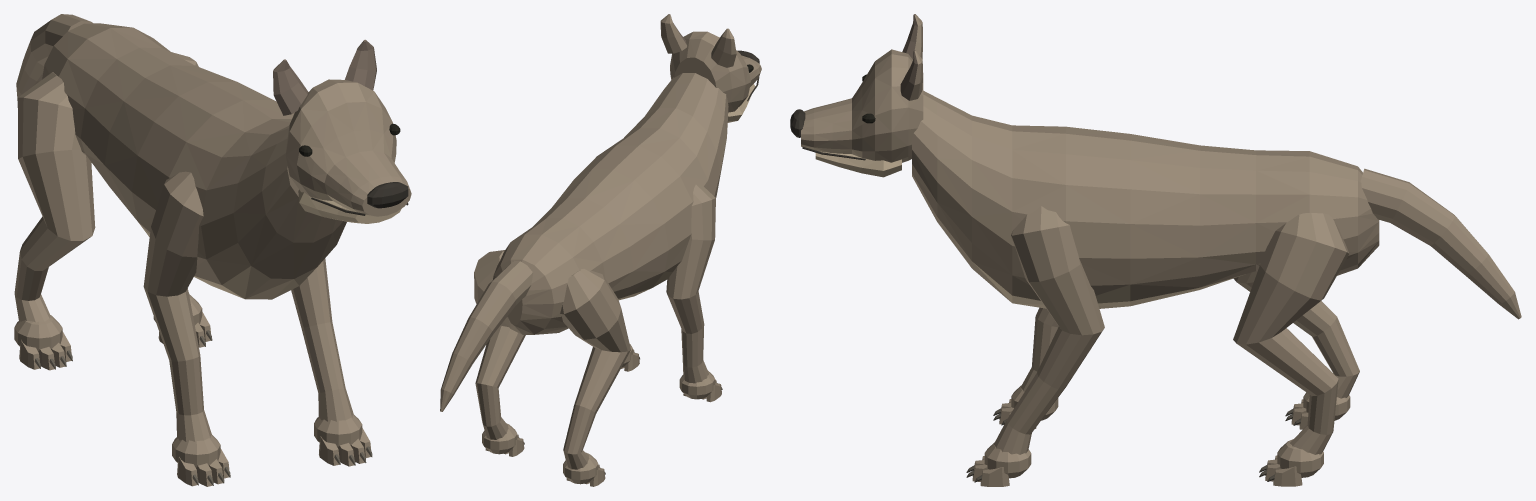
The picture shows the model from 3 angles, left to right: view 1: azimuth 30°, elevation 25°; view 2: azimuth 150°, elevation 25°; view 3: azimuth 270°, elevation 25°; orthographic projection. The views are drawn at different scales.
Parts seen in each view (by area): view 1: torso_and_powerful_neck, hindleg_left, domed_cranium_short_broad_muzzle, foreleg_left, foreleg_right, moderate_tapered_tail, ear_left, paw_metapad_hind_left, deep_mandibular_body, paw_metapad_fore_left, paw_metapad_fore_right, four_toes_fore_left (+5 smaller); view 2: torso_and_powerful_neck, hindleg_left, foreleg_left, moderate_tapered_tail, hindleg_right, domed_cranium_short_broad_muzzle, ear_left, ear_right, paw_metapad_fore_left, paw_metapad_hind_left, paw_metapad_hind_right; view 3: torso_and_powerful_neck, hindleg_right, foreleg_right, domed_cranium_short_broad_muzzle, moderate_tapered_tail, hindleg_left, foreleg_left, deep_mandibular_body, paw_metapad_hind_right, paw_metapad_fore_right, ear_right.
Boxes of the visible parts, left/top/right/bottom form: torso_and_powerful_neck: left=42, top=23, right=346, bottom=299; hindleg_left: left=14, top=72, right=95, bottom=322; domed_cranium_short_broad_muzzle: left=285, top=79, right=411, bottom=216; foreleg_left: left=143, top=171, right=212, bottom=441; foreleg_right: left=291, top=258, right=353, bottom=421; moderate_tapered_tail: left=16, top=14, right=92, bottom=100; ear_left: left=273, top=59, right=308, bottom=115; paw_metapad_hind_left: left=14, top=315, right=62, bottom=351; deep_mandibular_body: left=298, top=189, right=401, bottom=223; paw_metapad_fore_left: left=172, top=435, right=220, bottom=467; paw_metapad_fore_right: left=314, top=415, right=362, bottom=447; four_toes_fore_left: left=177, top=448, right=229, bottom=486; torso_and_powerful_neck: left=493, top=73, right=728, bottom=334; hindleg_left: left=560, top=269, right=630, bottom=469; foreleg_left: left=666, top=184, right=715, bottom=383; moderate_tapered_tail: left=440, top=260, right=533, bottom=411; hindleg_right: left=474, top=250, right=525, bottom=439; domed_cranium_short_broad_muzzle: left=670, top=31, right=761, bottom=112; ear_left: left=711, top=28, right=736, bottom=67; ear_right: left=660, top=14, right=686, bottom=53; paw_metapad_fore_left: left=679, top=371, right=715, bottom=399; paw_metapad_hind_left: left=563, top=452, right=598, bottom=484; paw_metapad_hind_right: left=482, top=423, right=517, bottom=454; torso_and_powerful_neck: left=912, top=90, right=1379, bottom=308; hindleg_right: left=1233, top=213, right=1349, bottom=454; foreleg_right: left=994, top=206, right=1104, bottom=454; domed_cranium_short_broad_muzzle: left=801, top=49, right=923, bottom=162; moderate_tapered_tail: left=1360, top=168, right=1521, bottom=319; hindleg_left: left=1233, top=271, right=1359, bottom=398; foreleg_left: left=1020, top=307, right=1058, bottom=391; deep_mandibular_body: left=815, top=151, right=901, bottom=177; paw_metapad_hind_right: left=1277, top=439, right=1323, bottom=477; paw_metapad_fore_right: left=984, top=442, right=1031, bottom=478; ear_right: left=900, top=50, right=922, bottom=100.
Size of the model in its own units: 0.3803 by 0.8579 by 1.36.
